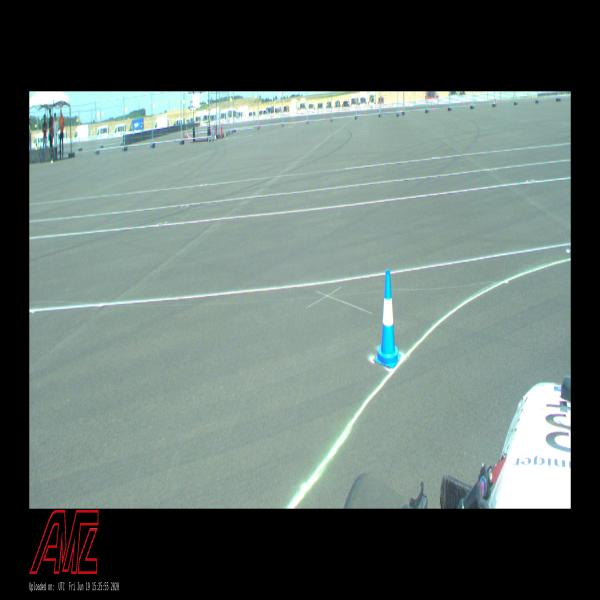blue_cone: (375, 269, 401, 368)
